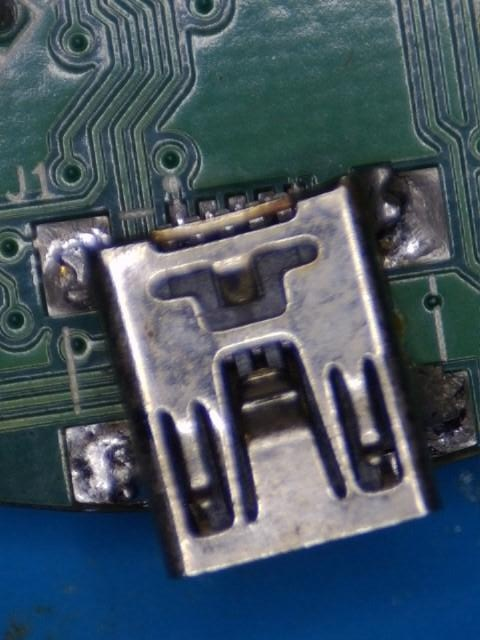pcb_defect: (32, 162, 479, 581)
